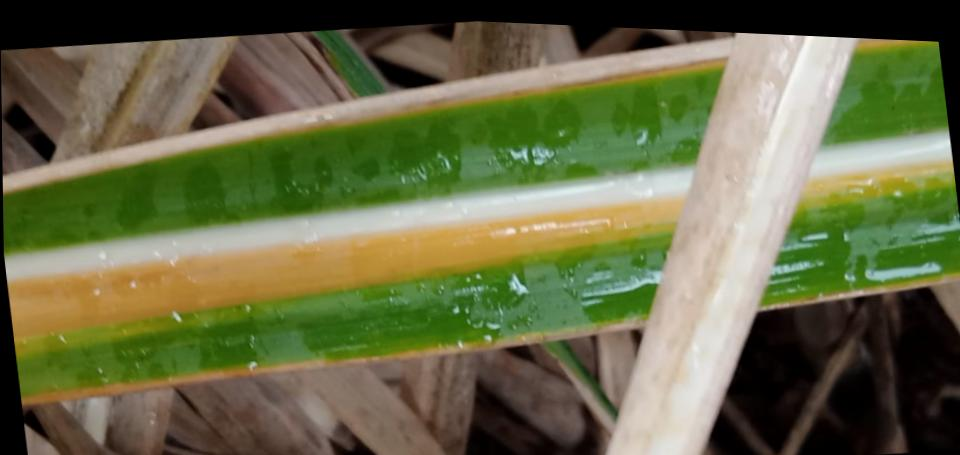Yellow: (3, 35, 735, 194), (7, 188, 690, 337), (22, 311, 646, 406), (757, 270, 960, 310), (797, 158, 954, 206), (855, 39, 928, 50)
